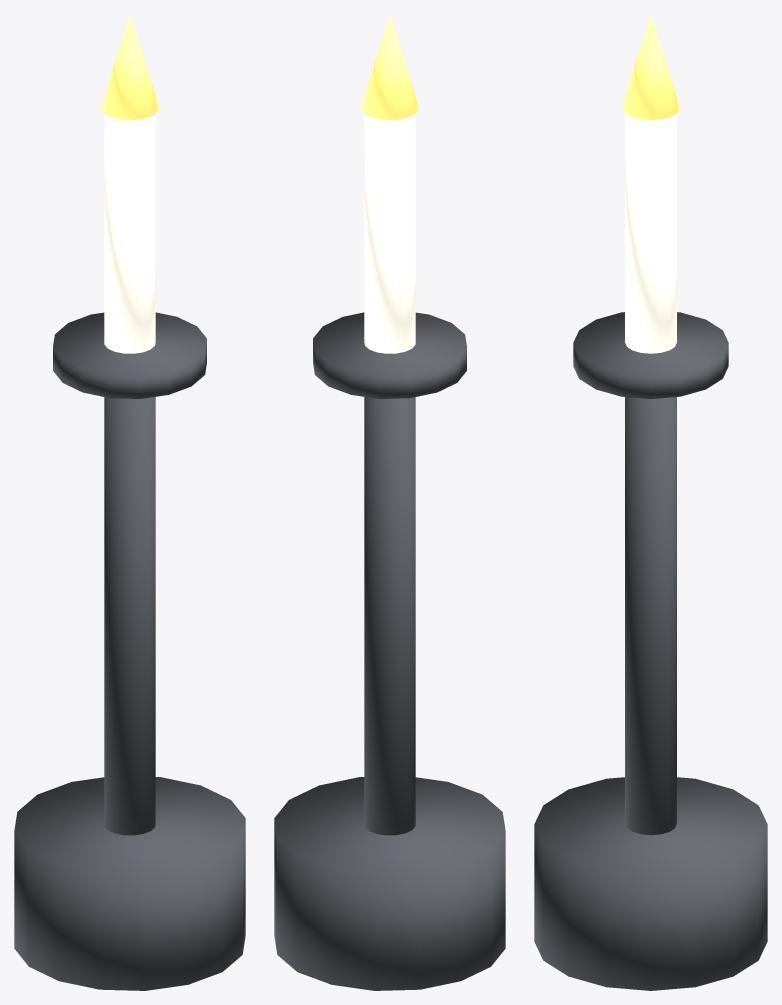
File: prop_rosoku_dai.glb
The picture shows the model from 3 angles, left to right: view 1: azimuth 30°, elevation 25°; view 2: azimuth 150°, elevation 25°; view 3: azimuth 270°, elevation 25°; orthographic projection.
Parts seen in each view (by area): view 1: rosoku_dai; view 2: rosoku_dai; view 3: rosoku_dai.
Boxes of the visible parts, box(x1,y1,x2,y2) form: rosoku_dai: box(14, 15, 245, 990); rosoku_dai: box(274, 15, 505, 990); rosoku_dai: box(534, 15, 767, 990).
Size of the model in its own units: 0.36 by 1.58 by 0.36.
